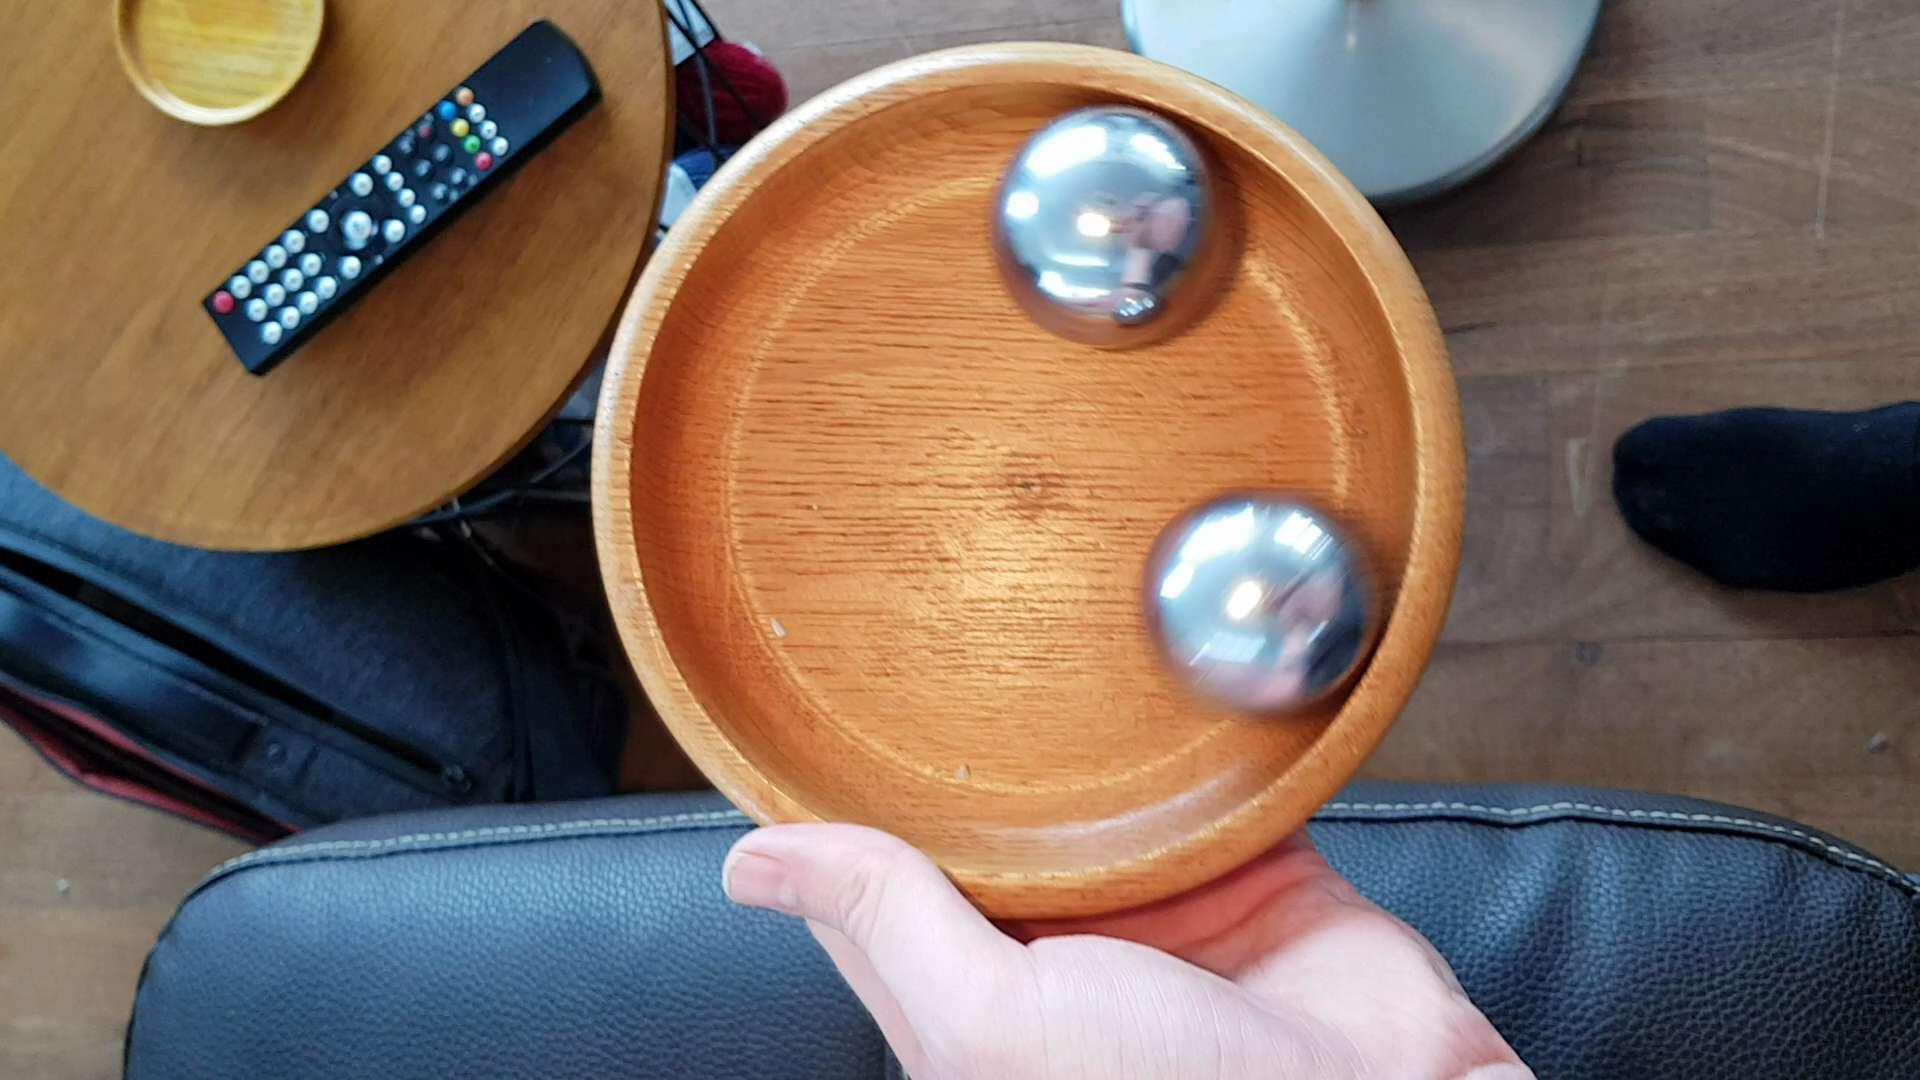sphere: (980, 99, 1232, 339), (1139, 487, 1375, 715)
